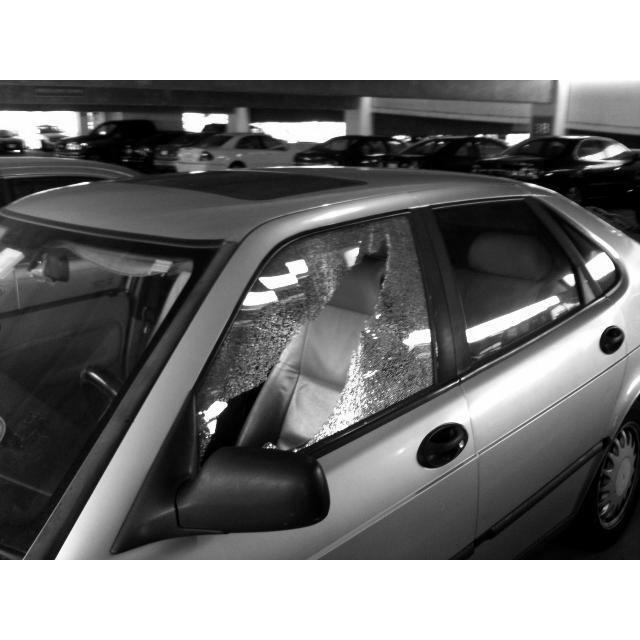doorouter-dent: (220, 252, 451, 516)
